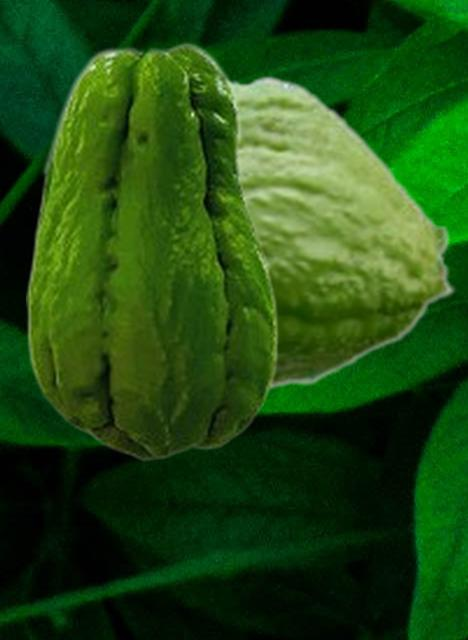sayote: (26, 41, 278, 461), (229, 74, 457, 394)
